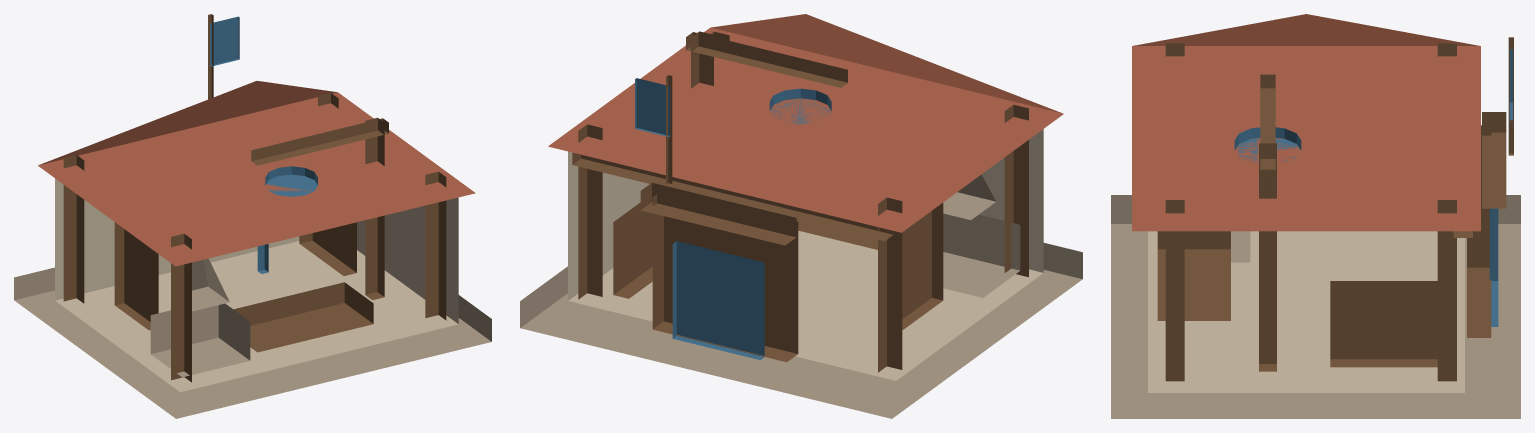
Rendered from SiegeWorkshop_authoring.glb.
3 views of the same model, side by side, from view 1: azimuth 30°, elevation 25°; view 2: azimuth 150°, elevation 25°; view 3: azimuth 270°, elevation 25° (orthographic). The views are drawn at different scales.
Visible parts, largest first — view 1: SiegeWorkshop_authoring; view 2: SiegeWorkshop_authoring; view 3: SiegeWorkshop_authoring.
Boxes of the visible parts, x1,y1,x2,y2 form: SiegeWorkshop_authoring: [14, 14, 491, 418]; SiegeWorkshop_authoring: [520, 14, 1082, 418]; SiegeWorkshop_authoring: [1111, 14, 1520, 418].
Bounding box in the file's own units: 7.2 × 5.3 × 6.4.
